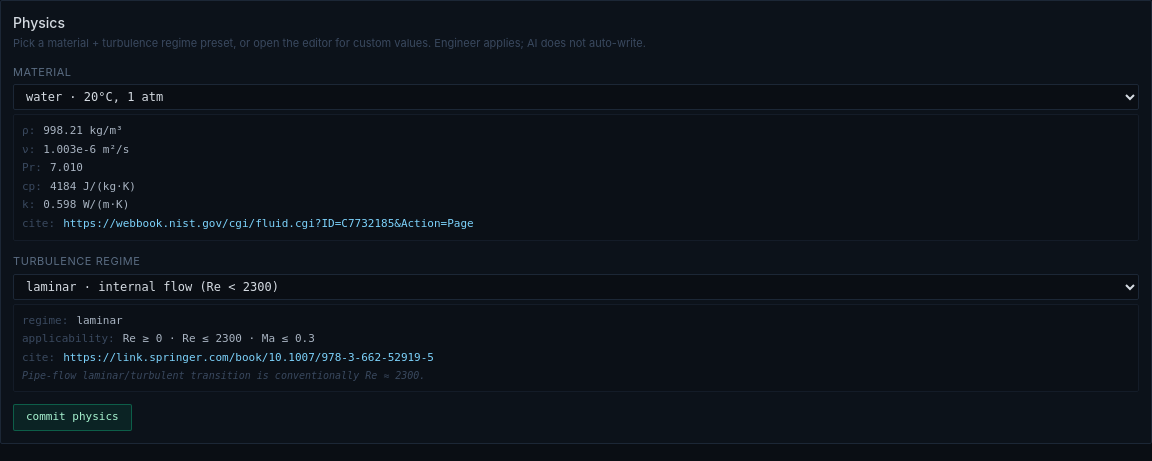
Test: PhysicsPanel · commit › surfaces ok badge with file count after success
What coordinates should you click on to do the following:
click the button with test id "physics-commit-button"
I would click on:
 (72, 417)
Its box is [13,404,132,430].
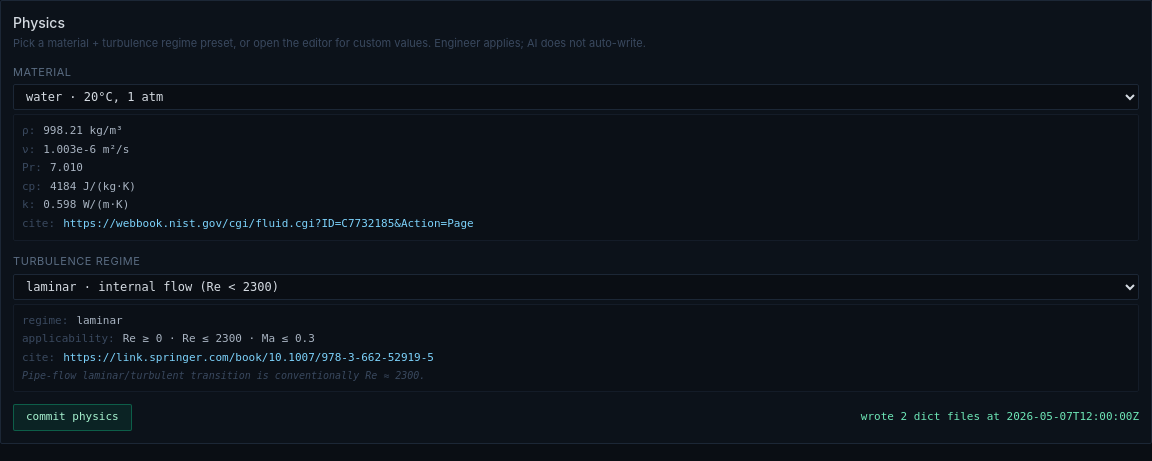
Check: the text with test id "physics-commit-ok" shows "wrote 2 dict files", box [861,409,1139,426]
